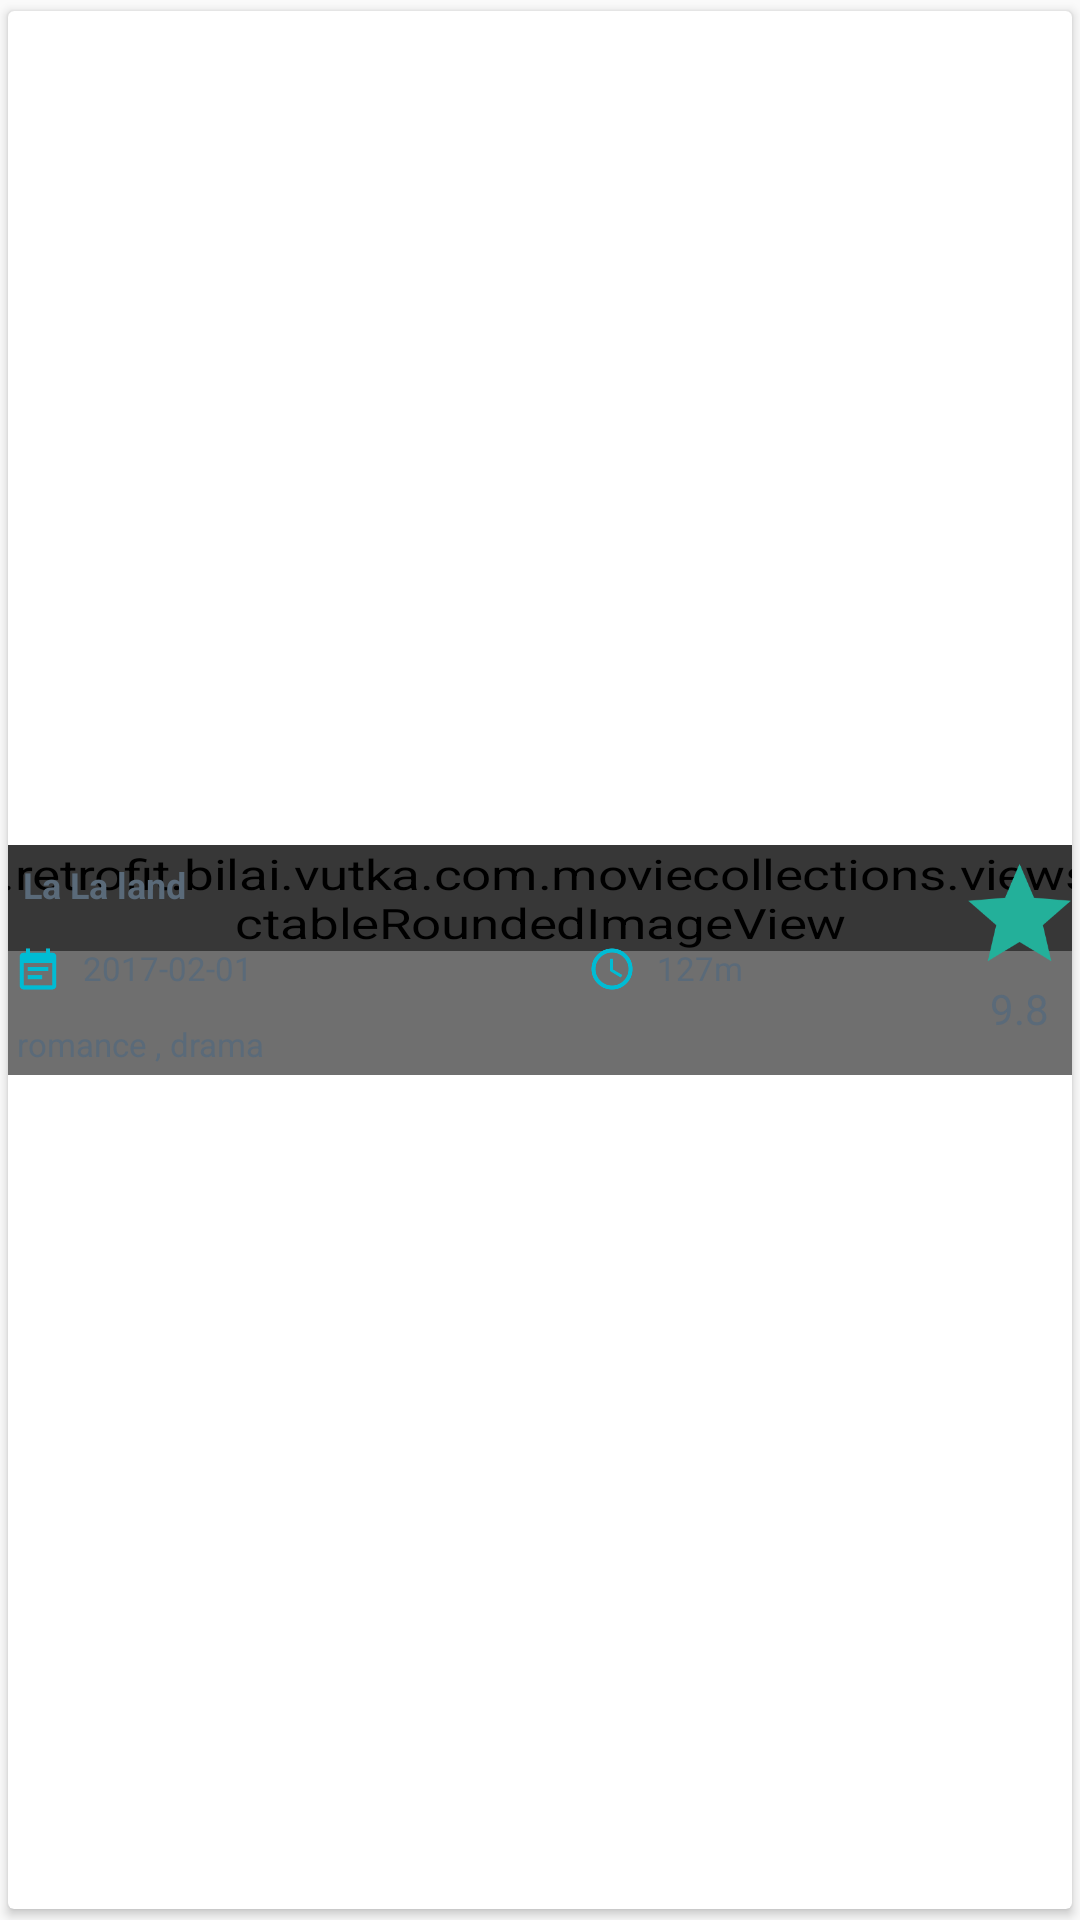

Named icons in this screenshot (1080px x 1920px) and their centers, [x,y]:
access time: [612,964]
event note: [38,969]
star: [1019,912]
